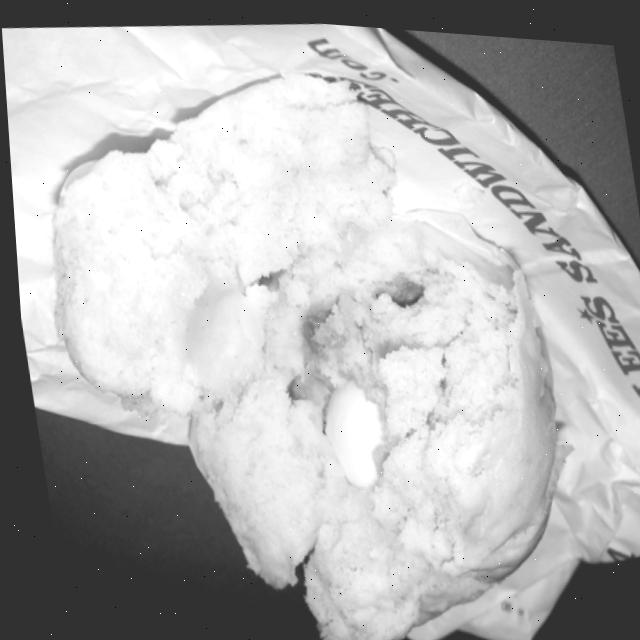带馅早点: (17, 38, 602, 640)
